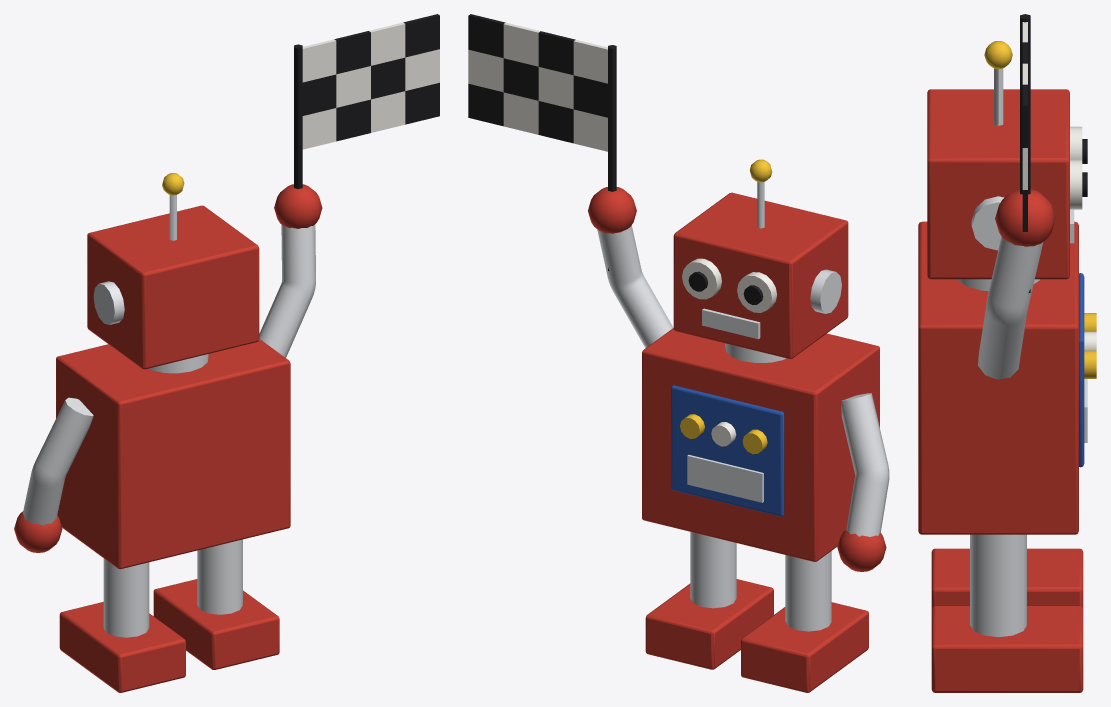
Rendered from robot.glb.
The picture shows the model from 3 angles, left to right: view 1: azimuth 30°, elevation 25°; view 2: azimuth 150°, elevation 25°; view 3: azimuth 270°, elevation 25°; orthographic projection. The views are drawn at different scales.
Visible parts, largest first — view 1: robot; view 2: robot; view 3: robot.
Boxes of the visible parts, left/top/right/bottom form: robot: left=14, top=14, right=439, bottom=692; robot: left=468, top=14, right=889, bottom=692; robot: left=918, top=14, right=1096, bottom=692.
Bounding box in the file's own units: 3.36 × 4.4 × 1.
